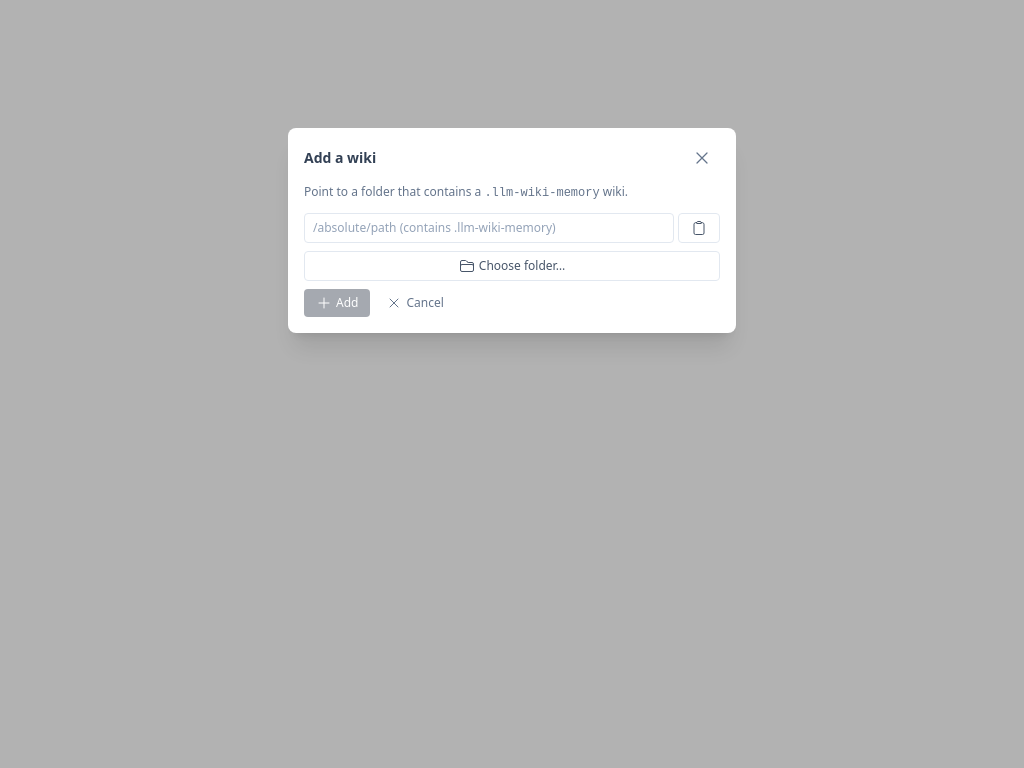
the paste button fills the input from the clipboard (trimmed)
This screenshot has width=1024, height=768.
Click the button named "paste from clipboard": (699, 228) [678,213,720,243]
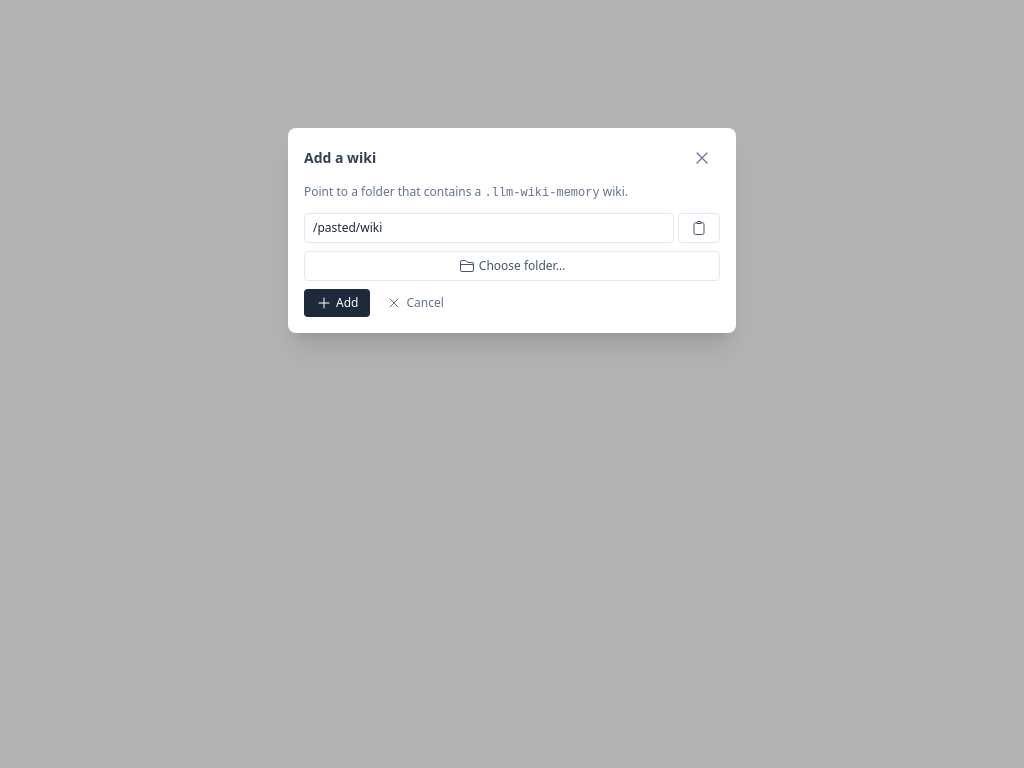
Check: the field with placeholder "/absolute/path (contains .llm-wiki-memory)" holds "/pasted/wiki", box [304,213,674,243]
